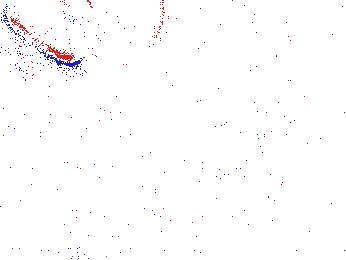moon jellyfish: (4, 1, 98, 66), (195, 103, 269, 183), (77, 1, 166, 65), (292, 78, 346, 159)
